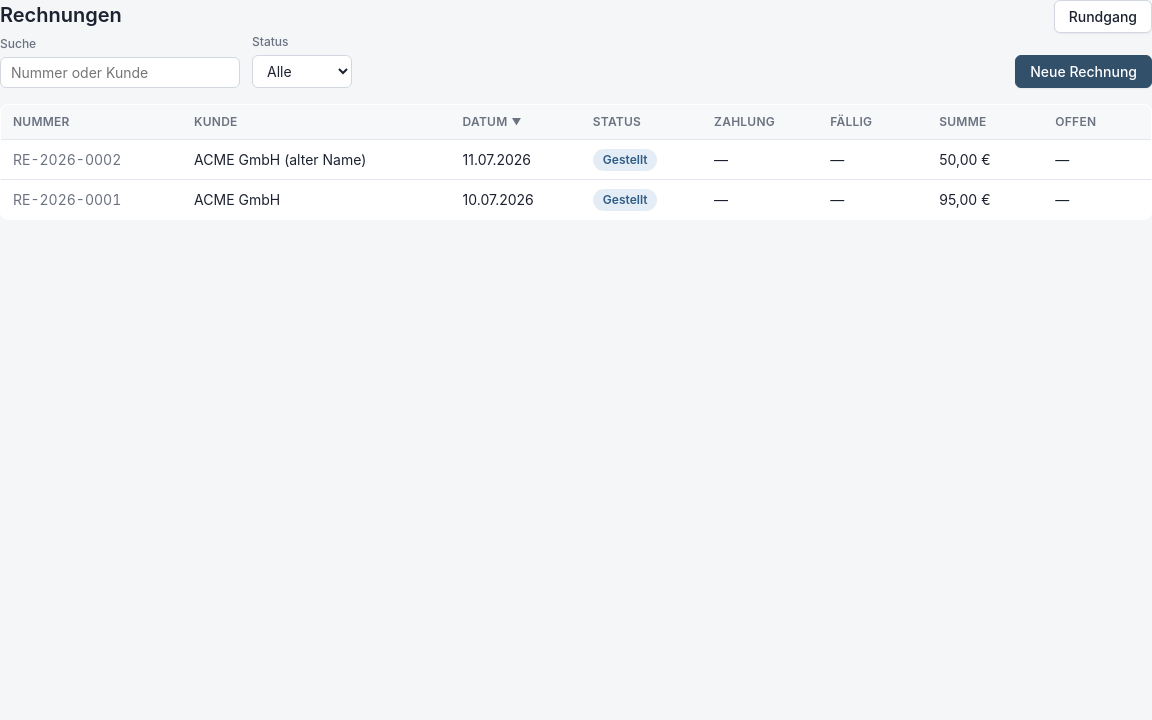
Rechnungen › startet den Rundgang über den Knopf im Seitenkopf
This screenshot has width=1152, height=720.
Expected: the button "RE-2026-0001" is shown, [13, 189, 121, 210]
Click the button "Rundgang" at (1103, 16), box [1054, 0, 1151, 33]
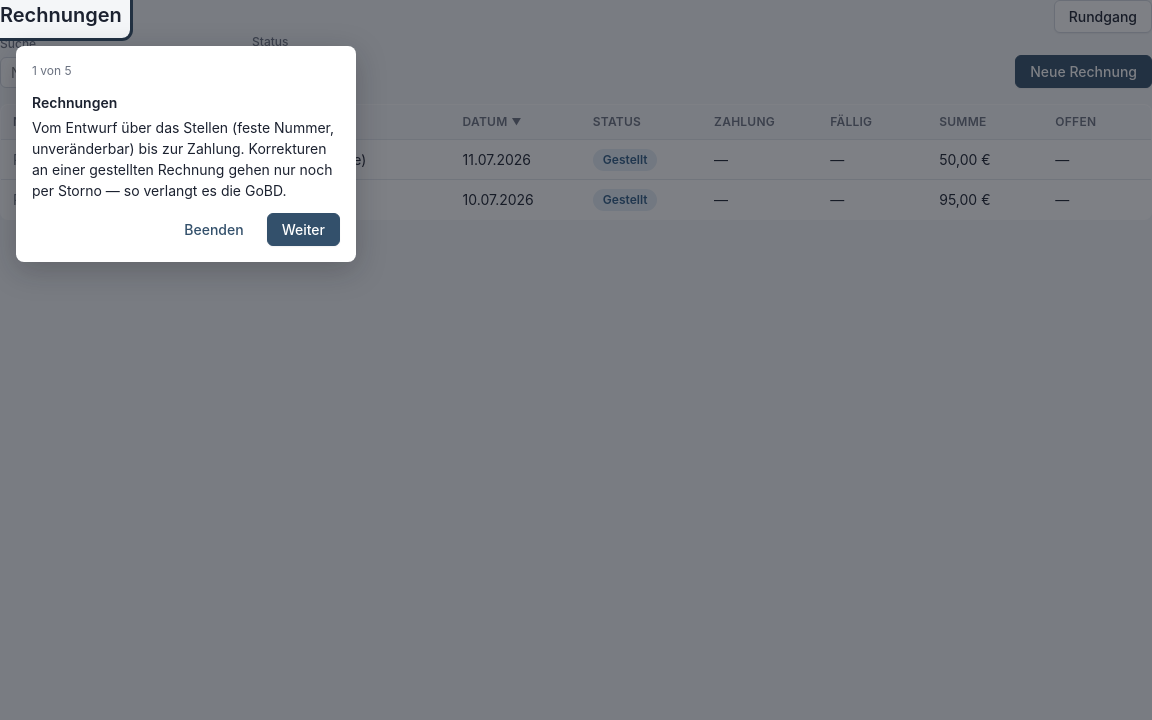
Expected: the text "1 von 5" is shown, [32, 63, 72, 78]
